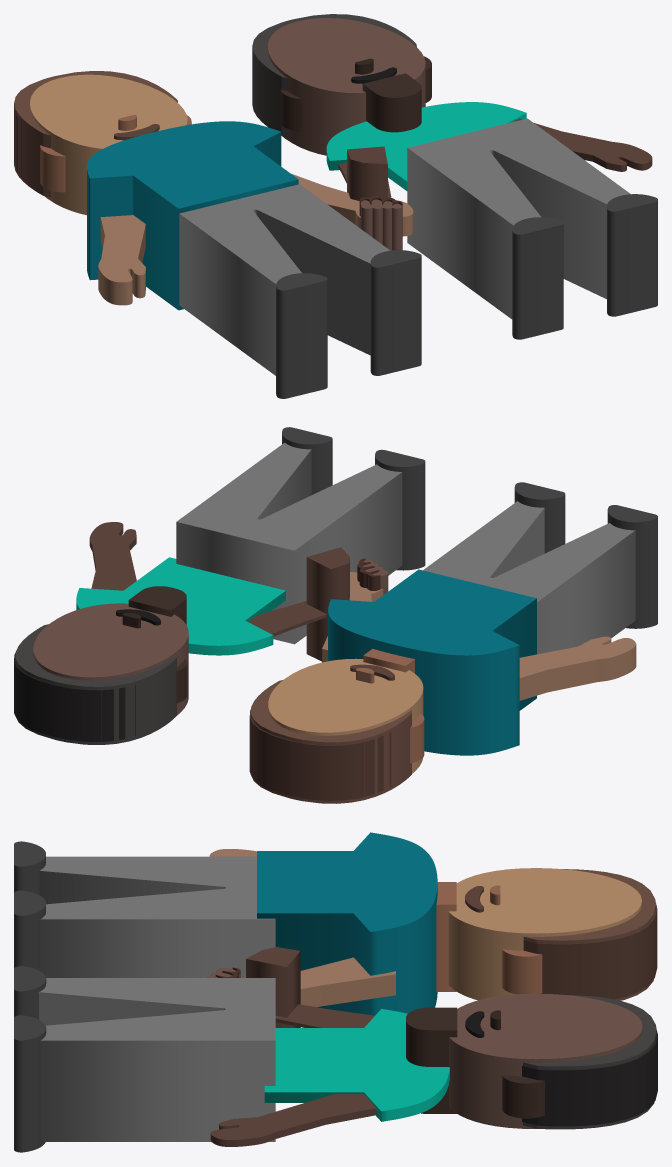
Rendered from emoji_u1f468_1f3fd_200d_1f91d_200d_1f468_1f3ff.glb.
The picture shows the model from 3 angles, top to bottom: view 1: azimuth 30°, elevation 25°; view 2: azimuth 150°, elevation 25°; view 3: azimuth 270°, elevation 25°; orthographic projection. The views are drawn at different scales.
Parts seen in each view (by area): view 1: emoji_u1f468_1f3fd_200d_1f91d_200d_1f468_1f3ff; view 2: emoji_u1f468_1f3fd_200d_1f91d_200d_1f468_1f3ff; view 3: emoji_u1f468_1f3fd_200d_1f91d_200d_1f468_1f3ff.
Part boxes in pixels (box(x1,y1,x2,y2)): emoji_u1f468_1f3fd_200d_1f91d_200d_1f468_1f3ff: box(14, 14, 657, 398); emoji_u1f468_1f3fd_200d_1f91d_200d_1f468_1f3ff: box(14, 427, 657, 803); emoji_u1f468_1f3fd_200d_1f91d_200d_1f468_1f3ff: box(14, 832, 657, 1152).
Size of the model in its own units: 0.0346 by 0.0066 by 0.0334.
